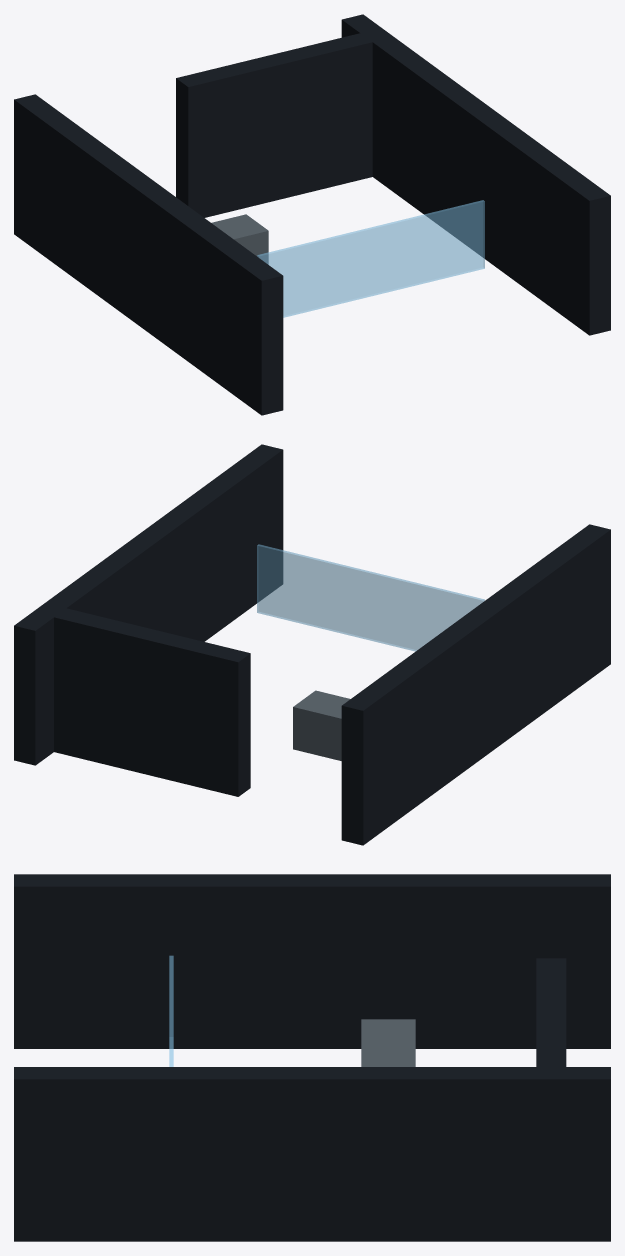
Rendered from module.split_sightline.glb.
The picture shows the model from 3 angles, top to bottom: view 1: azimuth 30°, elevation 25°; view 2: azimuth 150°, elevation 25°; view 3: azimuth 270°, elevation 25°; orthographic projection. The views are drawn at different scales.
Parts seen in each view (by area): view 1: lane_left_wall, lane_right_wall, blind_cheek, preview_window, answer_cover; view 2: lane_left_wall, lane_right_wall, blind_cheek, preview_window, answer_cover; view 3: lane_right_wall, lane_left_wall, blind_cheek, answer_cover, preview_window.
Part boxes in pixels (left/top/right/bottom): lane_left_wall: left=14, top=94, right=283, bottom=415; lane_right_wall: left=341, top=14, right=610, bottom=335; blind_cheek: left=176, top=33, right=375, bottom=217; preview_window: left=257, top=200, right=484, bottom=317; answer_cover: left=211, top=214, right=268, bottom=264; lane_left_wall: left=341, top=524, right=610, bottom=845; lane_right_wall: left=14, top=444, right=283, bottom=765; blind_cheek: left=54, top=608, right=250, bottom=796; preview_window: left=257, top=544, right=484, bottom=651; answer_cover: left=293, top=690, right=350, bottom=760; lane_right_wall: left=14, top=1067, right=610, bottom=1241; lane_left_wall: left=14, top=874, right=610, bottom=1048; blind_cheek: left=536, top=958, right=566, bottom=1066; answer_cover: left=361, top=1019, right=415, bottom=1066; preview_window: left=169, top=955, right=173, bottom=1066.
Size of the model in its own units: 8.95 by 3.3 by 11.
